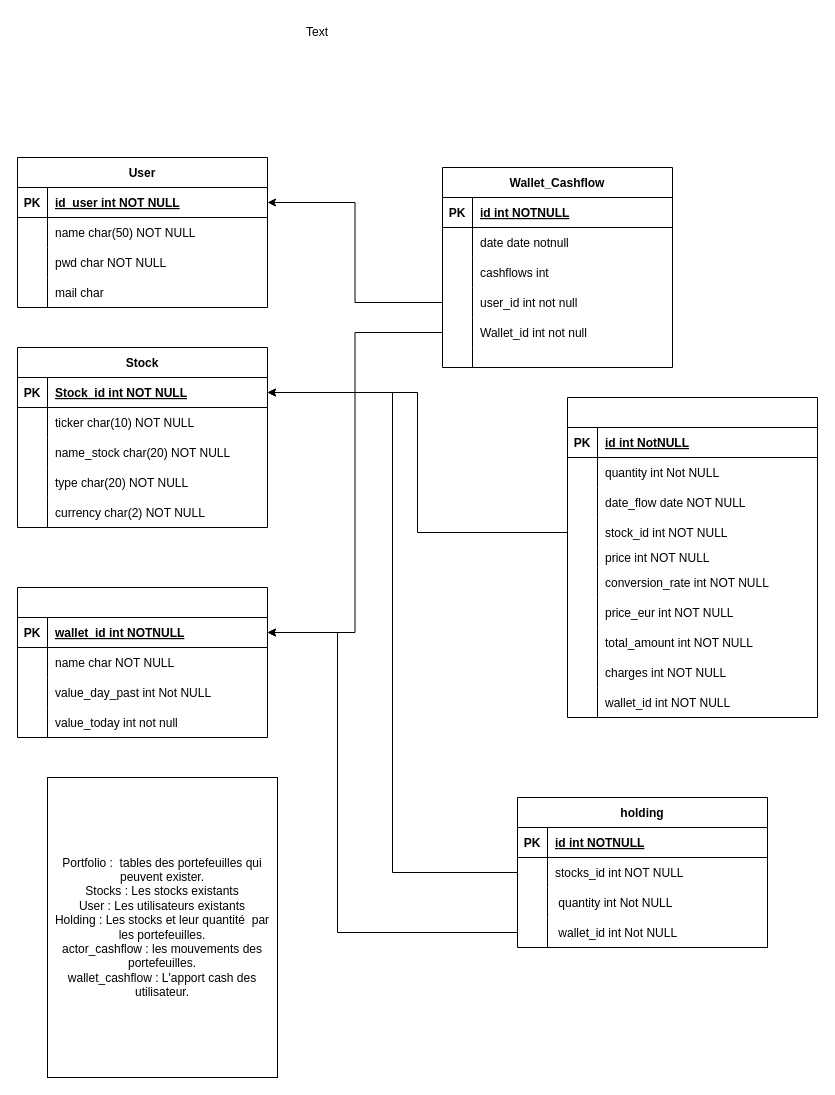
This 835x1095 diagram has some shape labels left out. Here are the shapes that lost their labels. From the top down, the box of each, then its label:
(566, 396, 818, 718): actor_Cashflow
(16, 586, 268, 738): Portfolio
